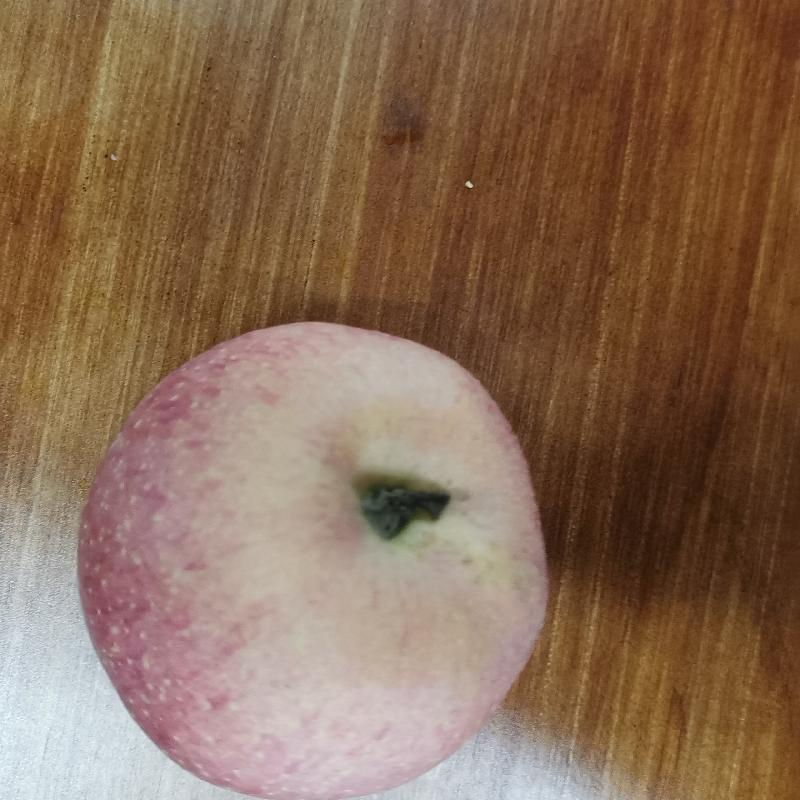apples: (75, 318, 586, 800)
